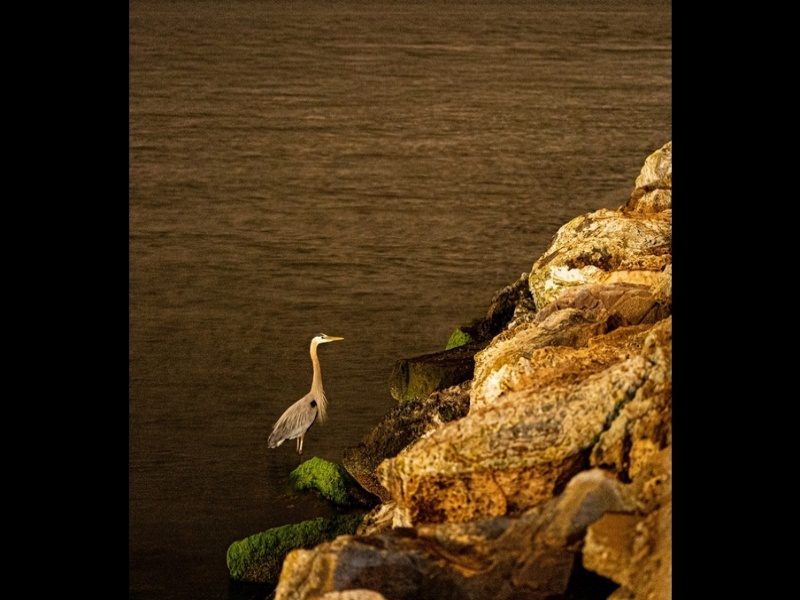heron: (265, 330, 347, 452)
